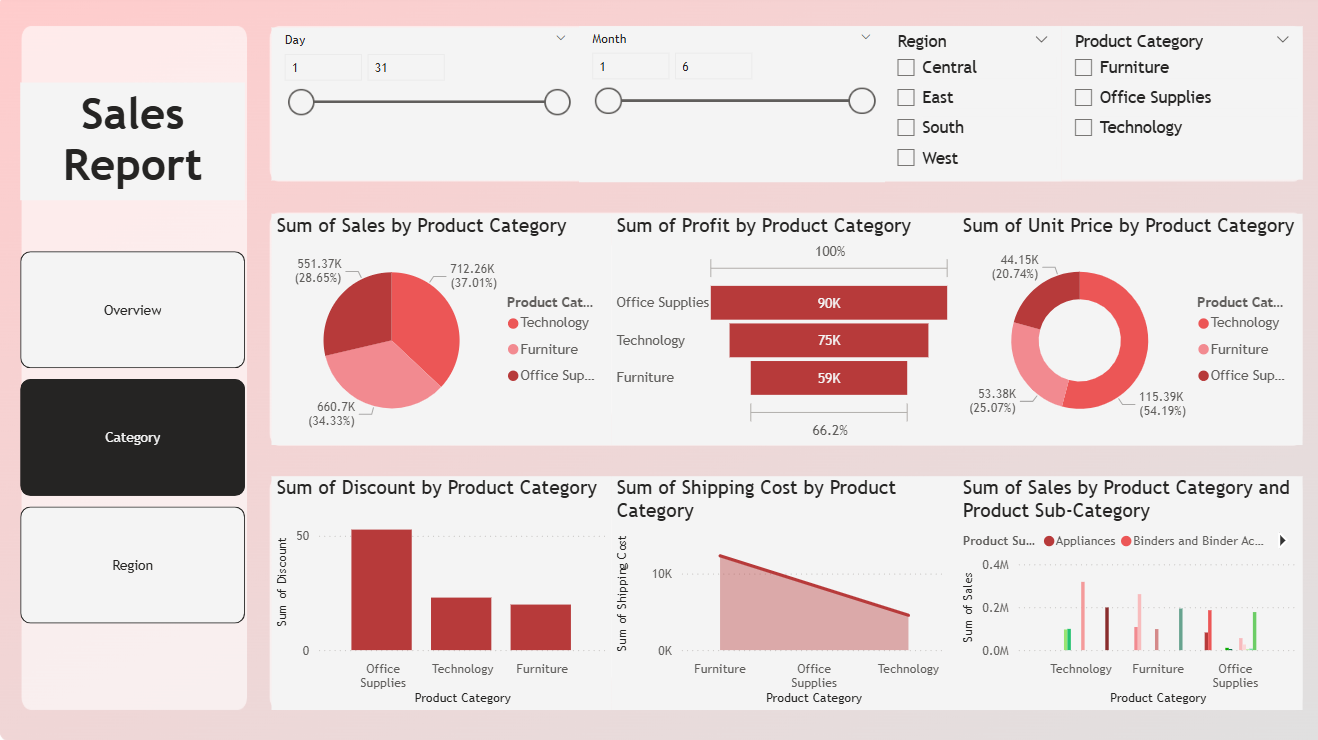

Layout of this report page (visuals, bound fields, positions):
{"tool":"powerbi","page":{"name":"Category","canvas":[1280,720],"ordinal":1},"visuals":[{"type":"pieChart","fields":{"Category":["Sales Project.Product Category"],"Y":["Sum(Sales Project.Sales)"]},"box":[263,211.1,328.2,223.2],"z":0},{"type":"donutChart","fields":{"Category":["Sales Project.Product Category"],"Y":["Sum(Sales Project.Unit Price)"]},"box":[925.3,211.1,333,223.2],"z":1000},{"type":"clusteredColumnChart","fields":{"Category":["Sales Project.Product Category"],"Series":["Sales Project.Product Sub-Category"],"Y":["Sum(Sales Project.Sales)"]},"box":[925.3,464.5,333,225.6],"z":2000},{"type":"funnel","fields":{"Category":["Sales Project.Product Category"],"Y":["Sum(Sales Project.Profit)"]},"box":[591.2,211.1,334.2,223.2],"z":3000},{"type":"columnChart","fields":{"Category":["Sales Project.Product Category"],"Y":["Sum(Sales Project.Discount)"]},"box":[263,464.5,328.2,225.6],"z":4000},{"type":"stackedAreaChart","fields":{"Category":["Sales Project.Product Category"],"Y":["Sum(Sales Project.Shipping Cost)"]},"box":[591.2,464.5,334.2,225.6],"z":5000},{"type":"slicer","fields":{"Values":["Sales Project.Product Category"]},"box":[1025.5,30.2,232.8,148.4],"z":6000},{"type":"slicer","fields":{"Values":["Sales Project.Region"]},"box":[854.2,30.2,171.3,149.6],"z":7000},{"type":"slicer","fields":{"Values":["Sales Project.Month"]},"box":[559.8,30.2,294.4,149.6],"z":8000},{"type":"slicer","fields":{"Values":["Sales Project.Day"]},"box":[263,31.4,296.8,147.2],"z":9000},{"type":"pageNavigator","box":[20.5,247.3,217.2,361.9],"z":9001},{"type":"textbox","box":[20.5,84.5,217.2,113.4],"z":9002}]}

Visuals, with their boxes in screenshot pixels (x1, y1, x2, y2), scaled from the page's 1280x720 canvas onto the 1318x740 screenshot:
pieChart - Sales Project.Product Category x Sum(Sales Project.Sales): l=271, t=217, r=609, b=446
donutChart - Sales Project.Product Category x Sum(Sales Project.Unit Price): l=953, t=217, r=1296, b=446
clusteredColumnChart - Sales Project.Product Category x Sales Project.Product Sub-Category: l=953, t=477, r=1296, b=709
funnel - Sales Project.Product Category x Sum(Sales Project.Profit): l=609, t=217, r=953, b=446
columnChart - Sales Project.Product Category x Sum(Sales Project.Discount): l=271, t=477, r=609, b=709
stackedAreaChart - Sales Project.Product Category x Sum(Sales Project.Shipping Cost): l=609, t=477, r=953, b=709
slicer - Sales Project.Product Category: l=1056, t=31, r=1296, b=184
slicer - Sales Project.Region: l=880, t=31, r=1056, b=185
slicer - Sales Project.Month: l=576, t=31, r=880, b=185
slicer - Sales Project.Day: l=271, t=32, r=576, b=184
pageNavigator: l=21, t=254, r=245, b=626
textbox: l=21, t=87, r=245, b=203
